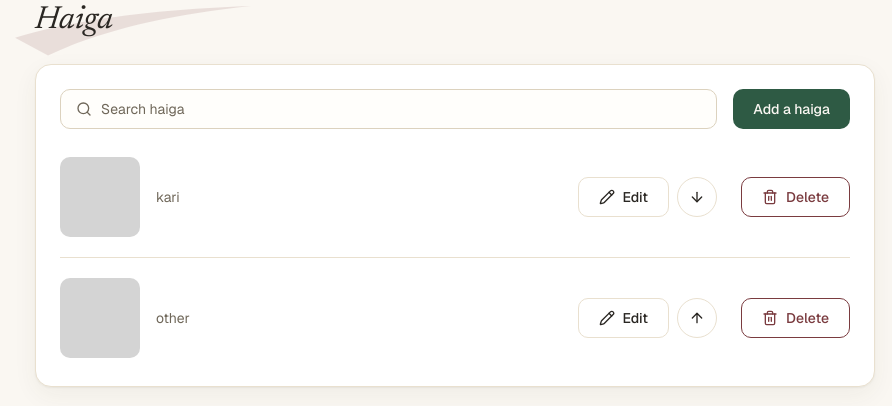
it: AdminHaigaPage search › filters by joined lines and publisher
The width and height of the screenshot is (892, 406).
Type "pond a frog" into the search field labelled "Search haiga" at (389, 109), box [60,89,717,129]
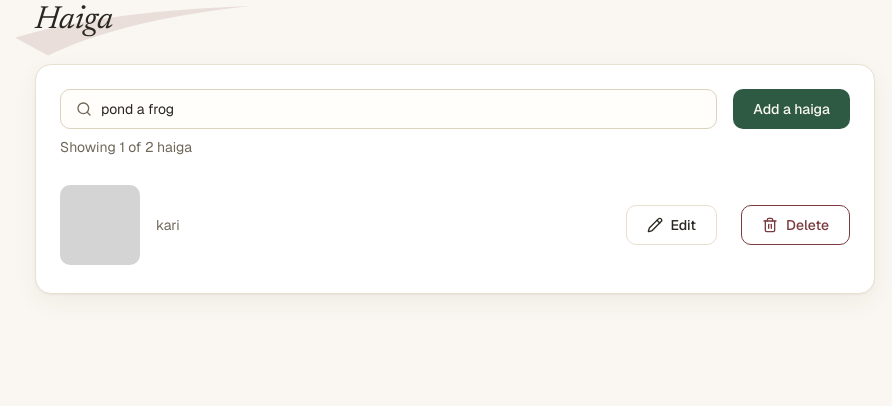
Expected: the text "kari" is shown, [156,215,180,235]
Expected: the text "other" is gone
Replace the text in the search field named "Search haiga" with "OTHER" at (389, 109), box [60,89,717,129]
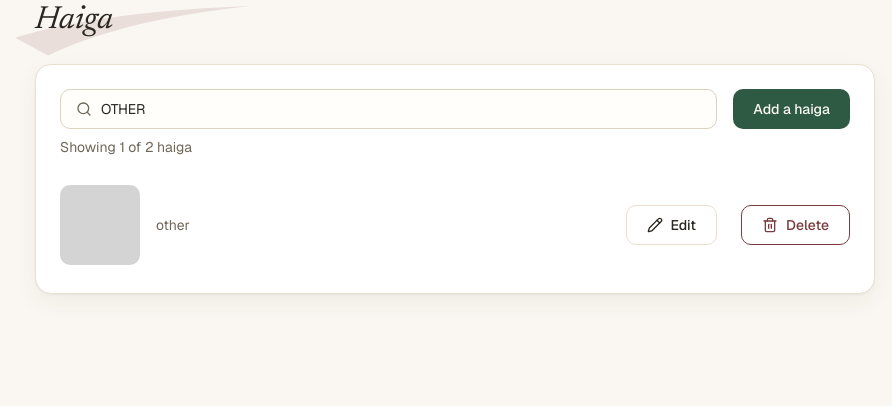
Expected: the text "kari" is gone
Expected: the text "other" is shown, [156,215,190,235]
